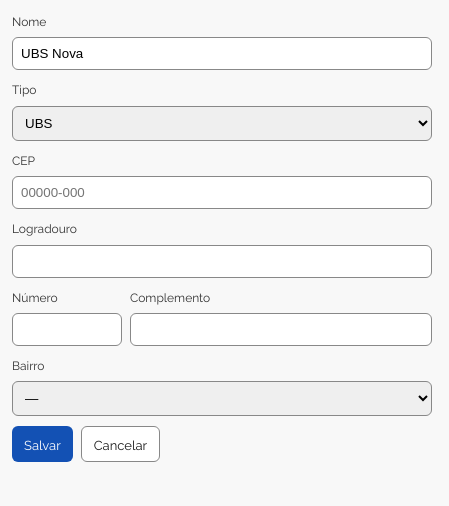
Test: UnitForm — CEP › bairro inativo não é pré-selecionado, mas a sugestão aparece
Type "80010000" into the field labelled "CEP" at point(222, 193), box [12,176,432,209]
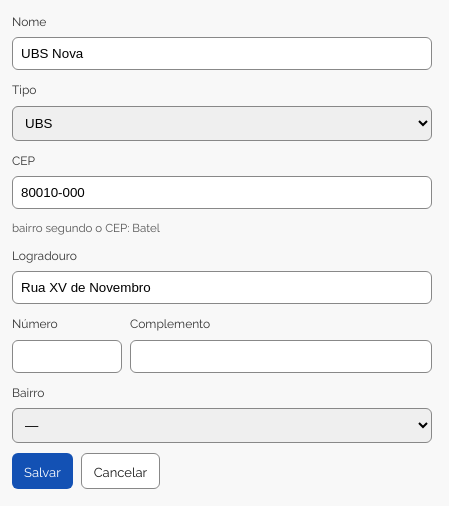
Expected: the dropdown labelled "Bairro" shows "—", [12,408,432,443]
Result: the text "bairro segundo o CEP: Batel" is shown at [12,219,160,235]
